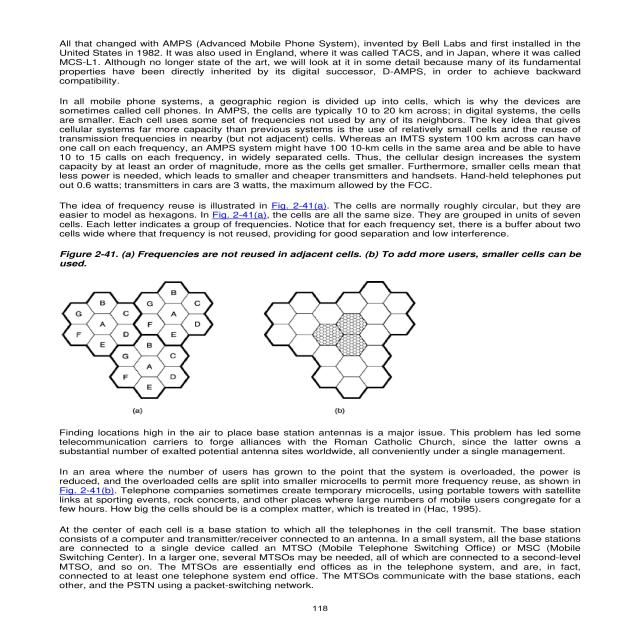diagram: (46, 244, 591, 424)
